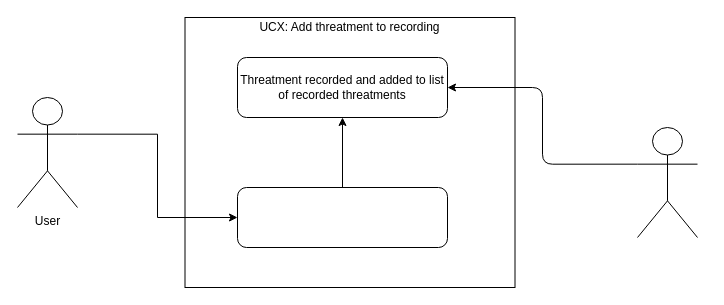
Image size: 724x305. Some labels were removed from this diagram. Each missing label, with the centre of its shape:
DENAS - PCM: [667,182]
Press button "record" at the end of a threatment: [342,217]
